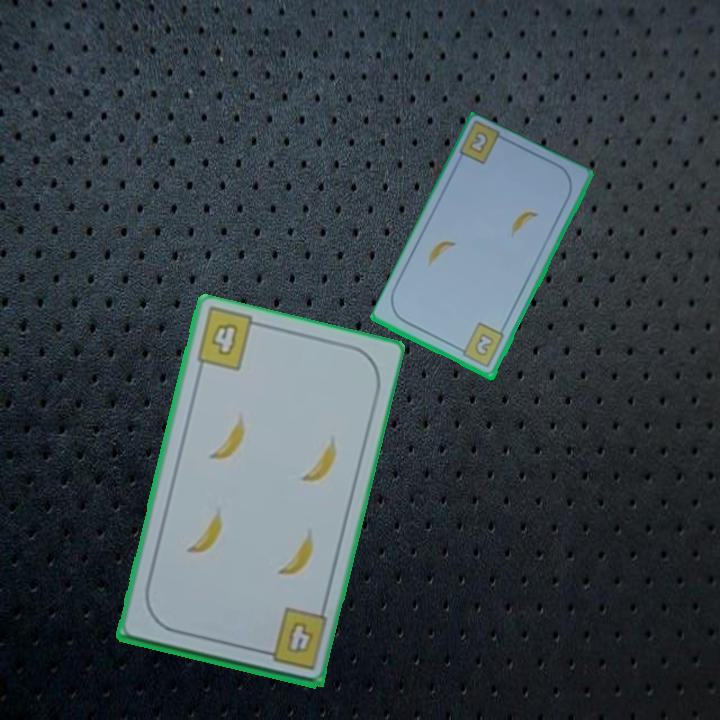2b: (454, 320, 507, 371), (466, 128, 491, 157)
4b: (255, 605, 330, 673), (207, 319, 241, 359)
